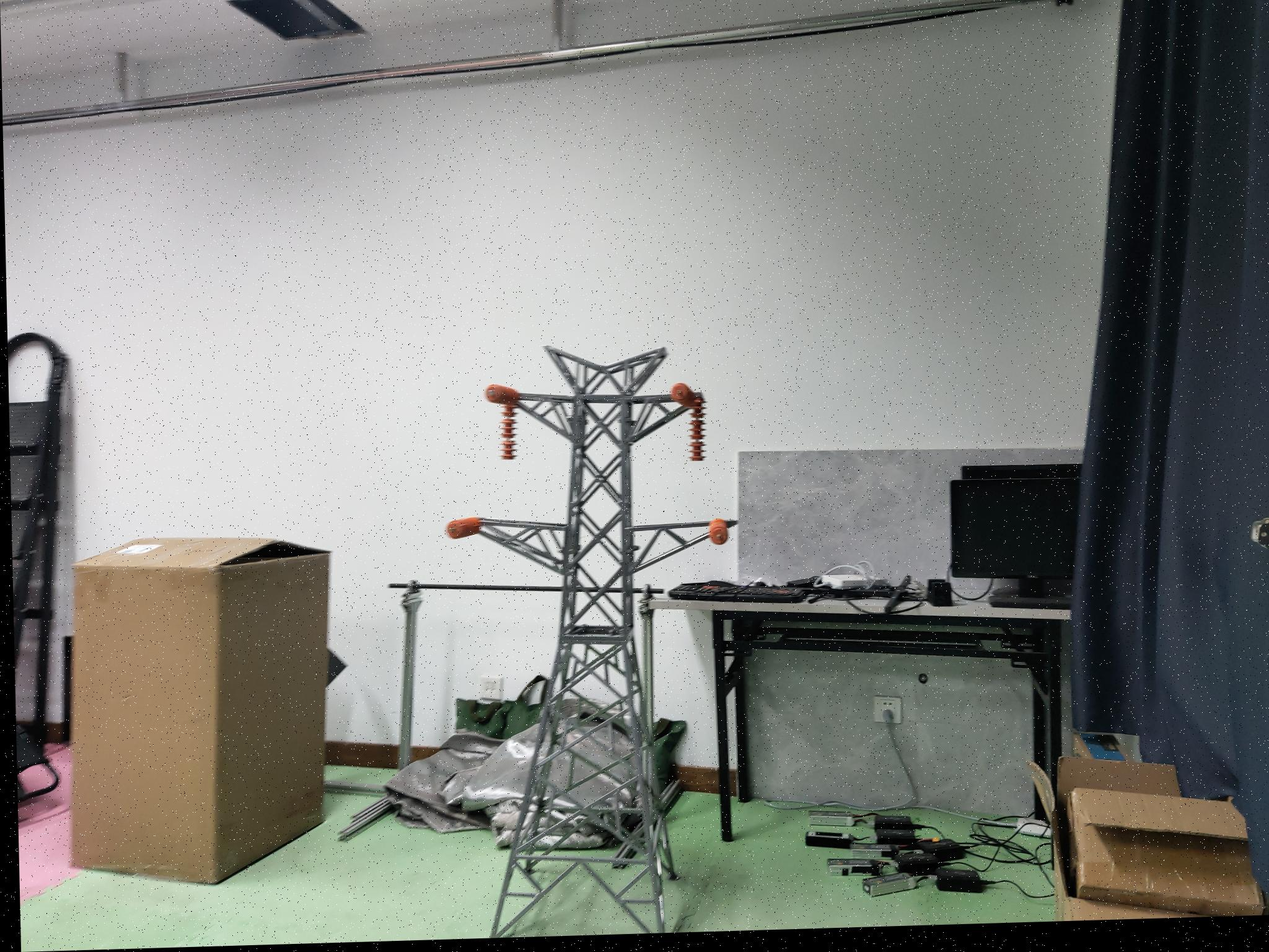tower: (461, 341, 741, 939)
